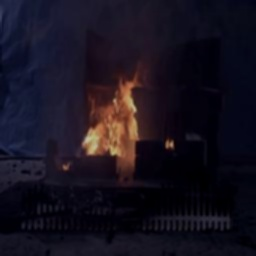fire: (78, 74, 153, 159)
